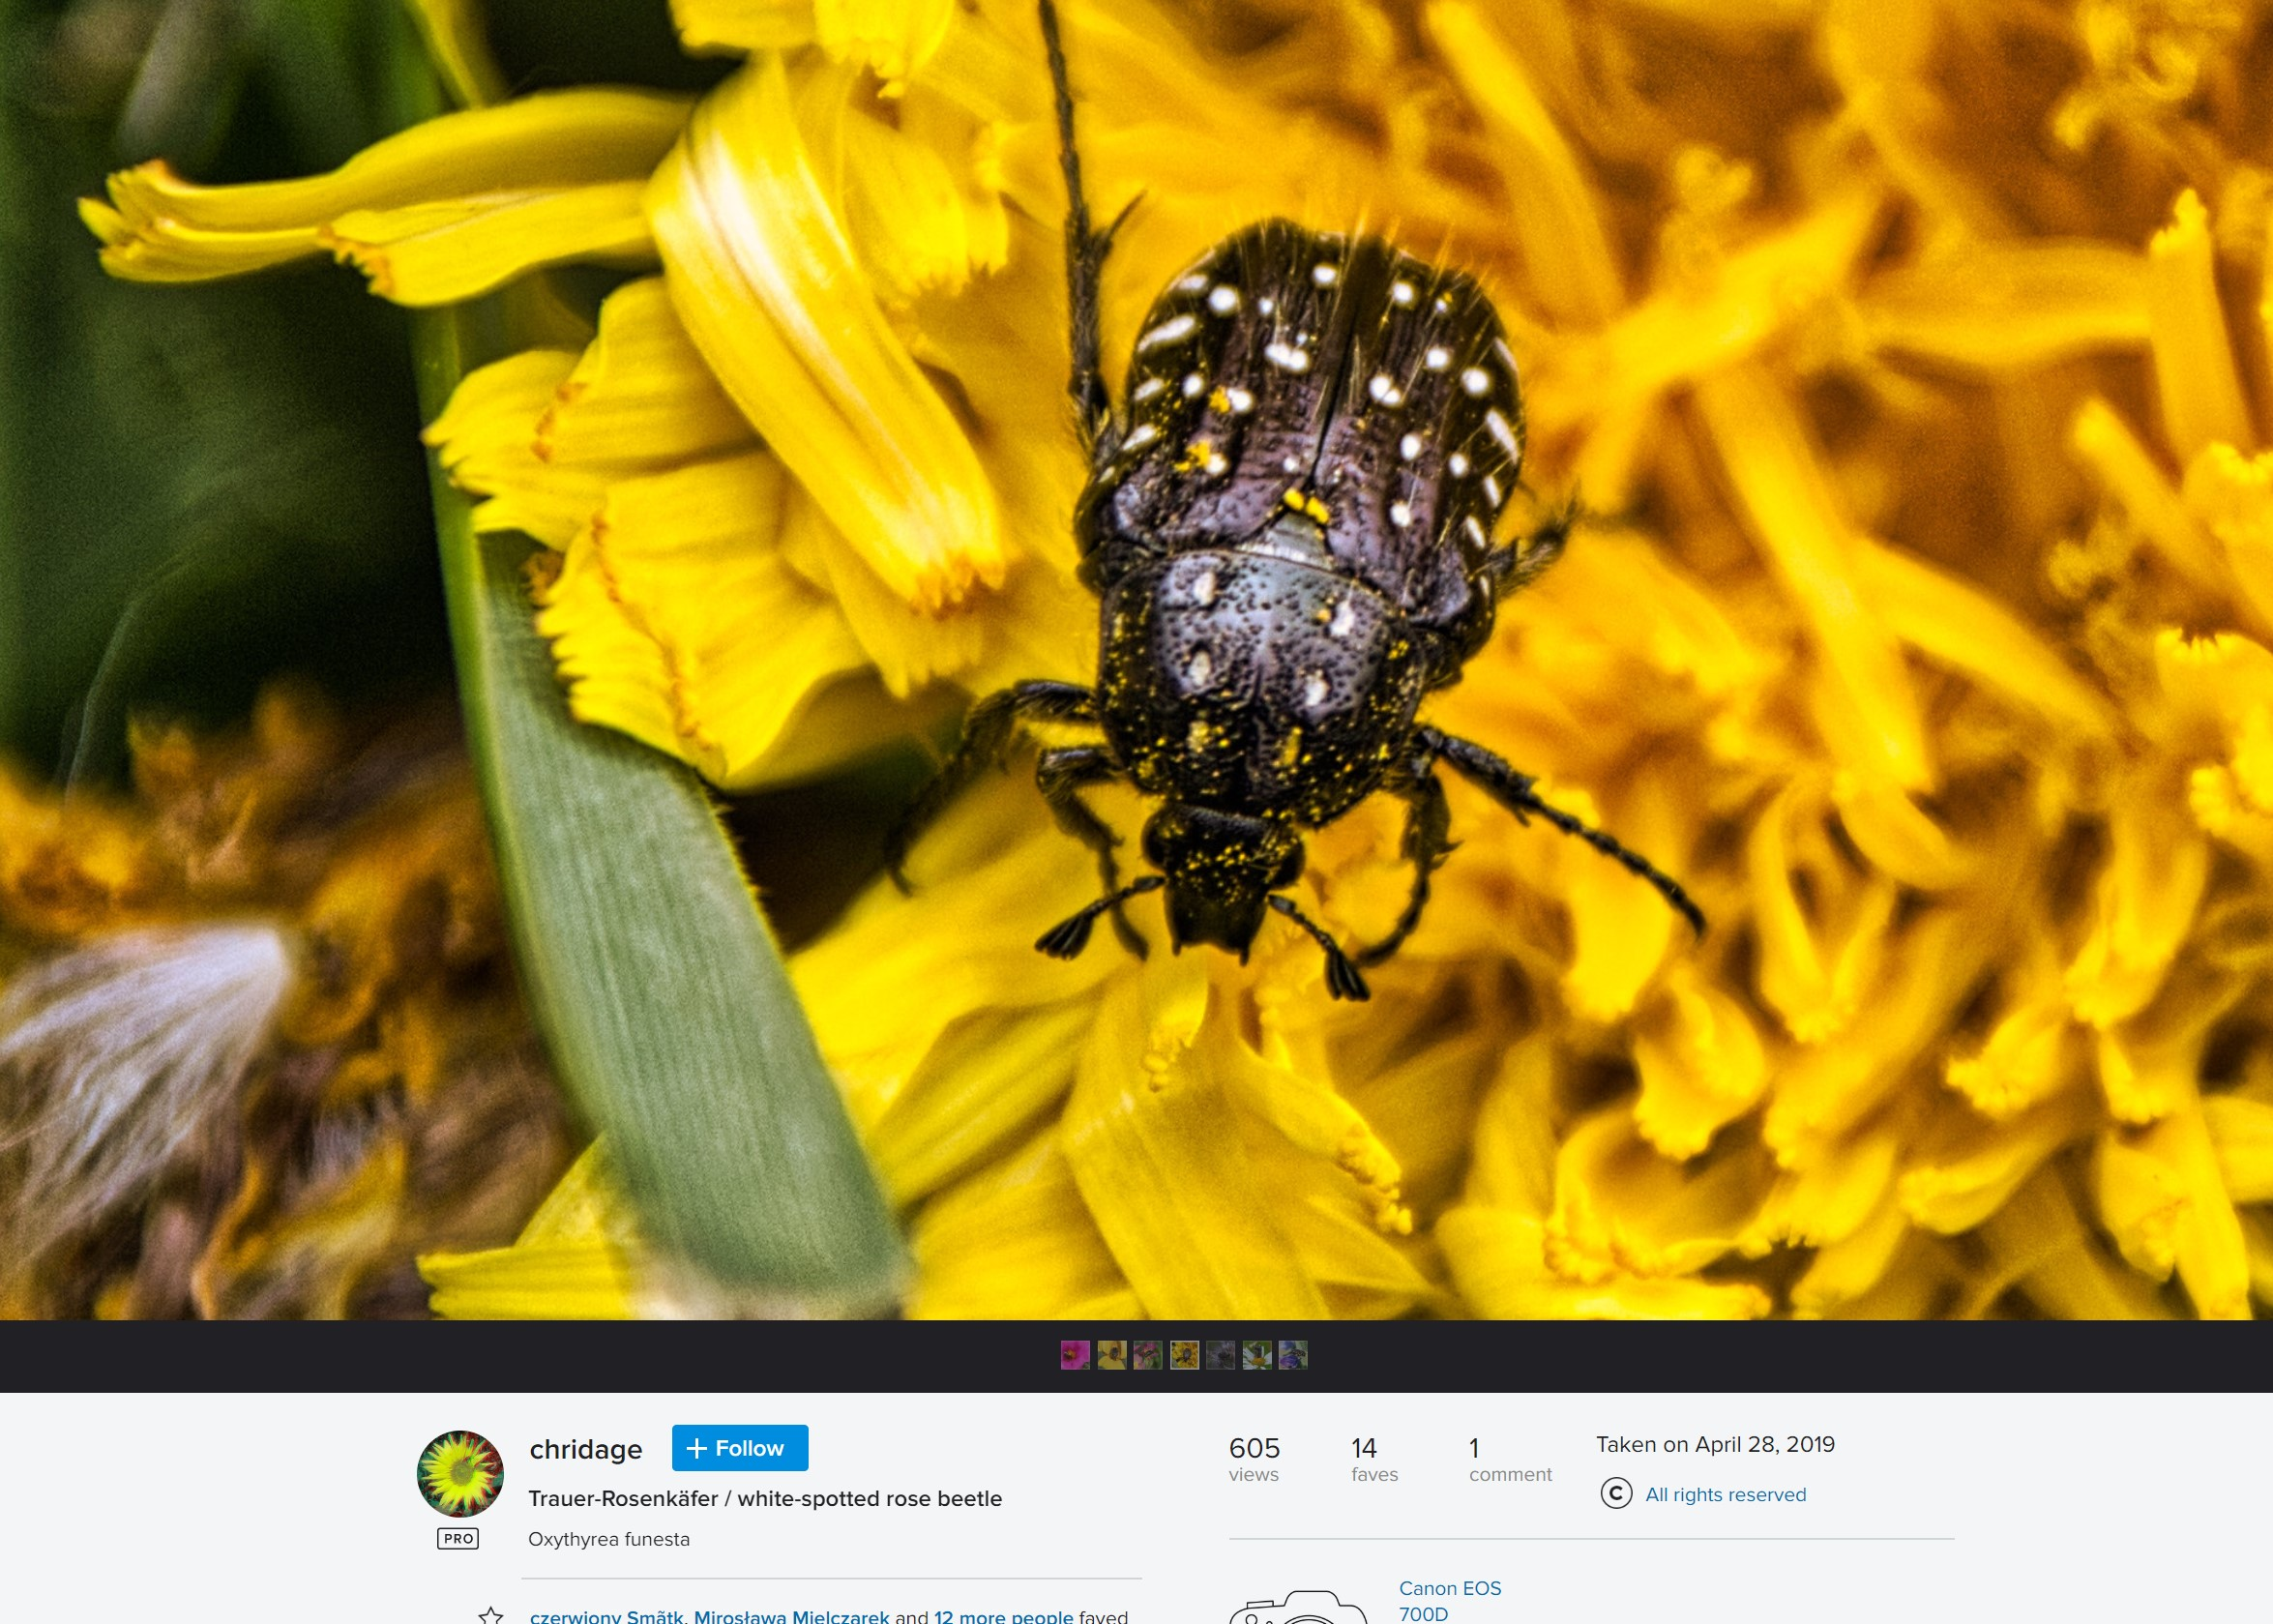Oxythyrea_funesta: (923, 209, 1739, 991)
